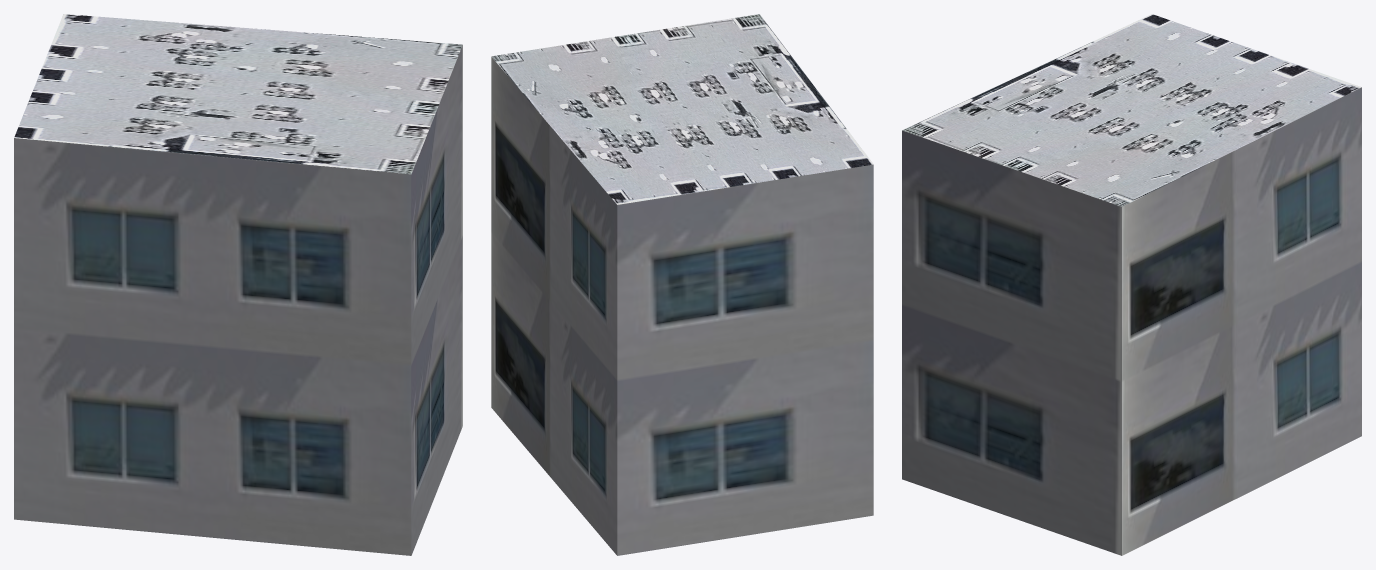
Rendered from ResTex__287.fbx.
3 views of the same model, side by side, from view 1: azimuth 30°, elevation 25°; view 2: azimuth 150°, elevation 25°; view 3: azimuth 270°, elevation 25° (orthographic). The views are drawn at different scales.
Parts seen in each view (by area): view 1: CityEngineMaterial_10_m, CityEngineMaterial_m; view 2: CityEngineMaterial_10_m, CityEngineMaterial_m; view 3: CityEngineMaterial_10_m, CityEngineMaterial_m.
Part boxes in pixels (<box>): CityEngineMaterial_10_m: <box>14,45,462,555</box>; CityEngineMaterial_m: <box>14,14,462,174</box>; CityEngineMaterial_10_m: <box>491,57,873,555</box>; CityEngineMaterial_m: <box>491,14,873,204</box>; CityEngineMaterial_10_m: <box>902,87,1361,555</box>; CityEngineMaterial_m: <box>902,14,1361,206</box>.
Bounding box in the file's own units: 7.12 × 6 × 7.16.
2 materials, 2 textured.
